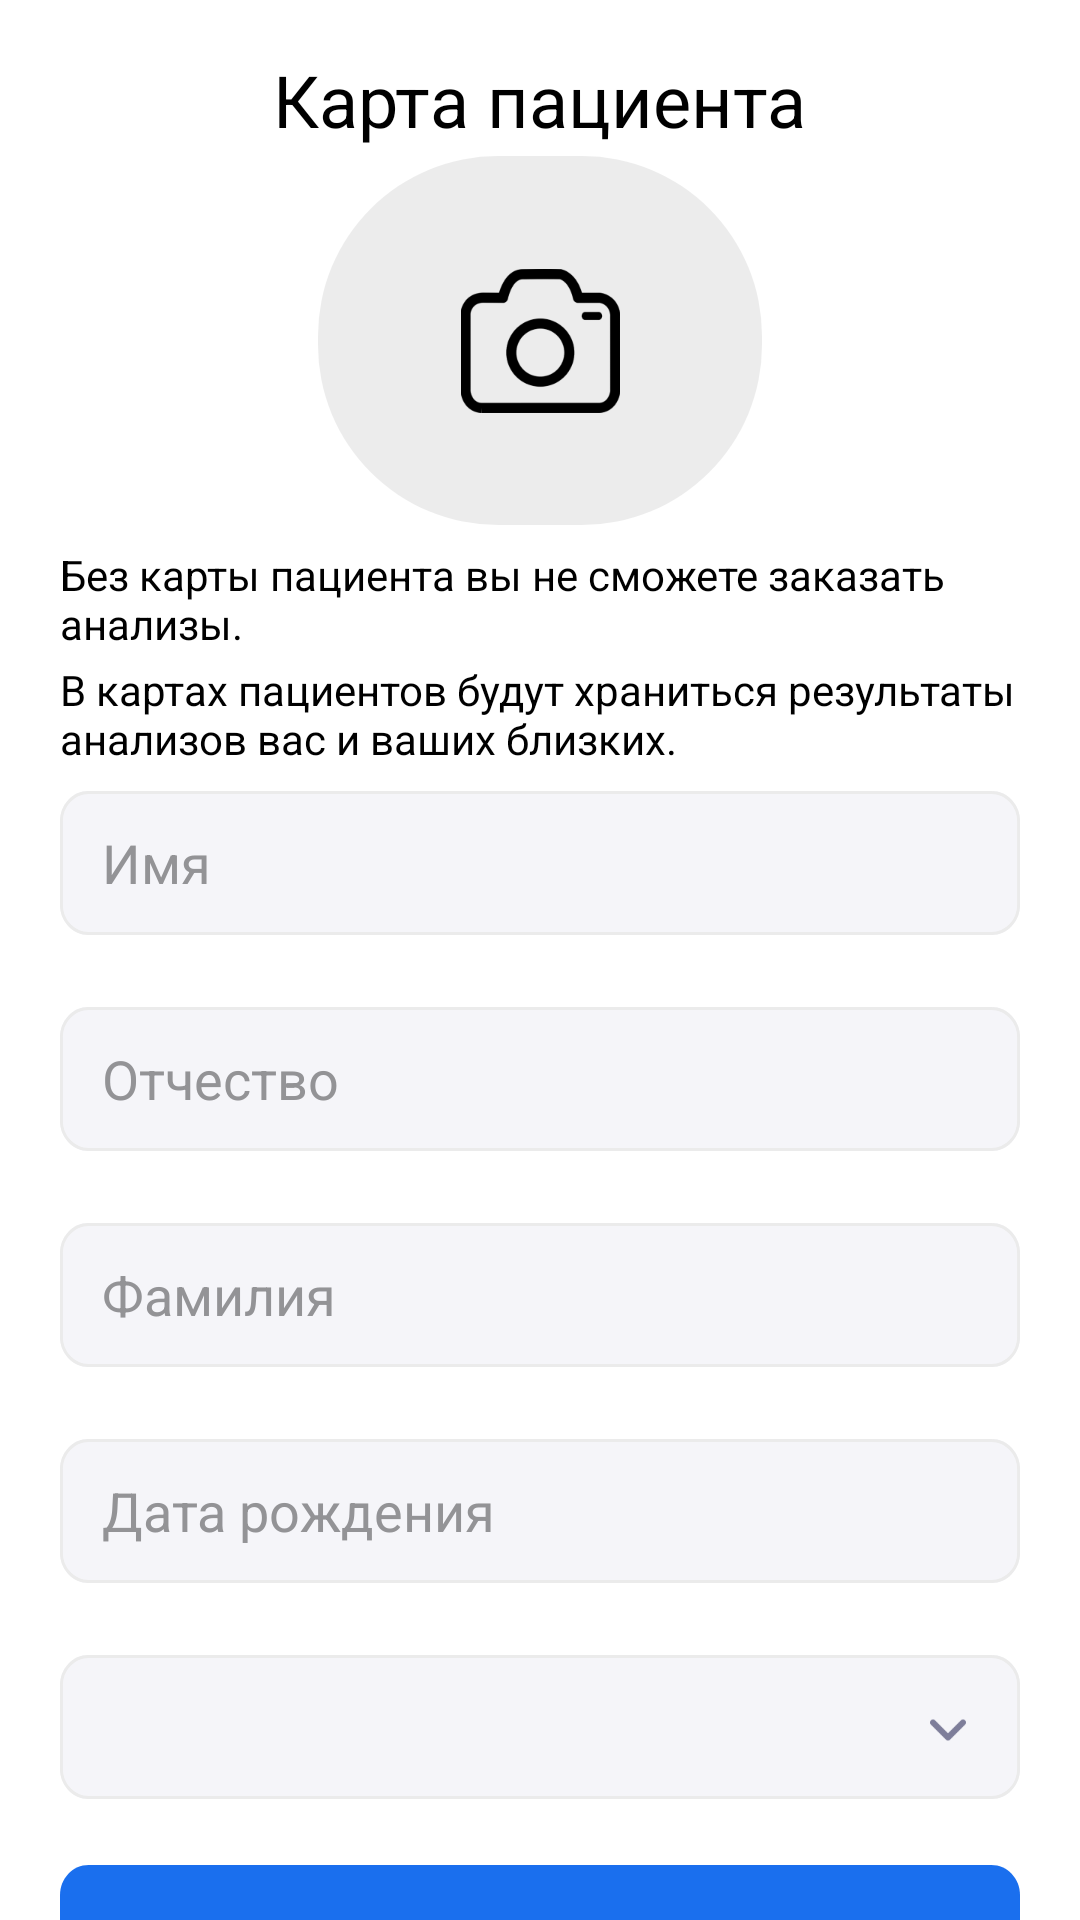

Named icons in this screenshot (1080w x 1920h) and their bounding boxes, (x1, y1, x2, y2):
cam: (461, 269, 620, 413)
